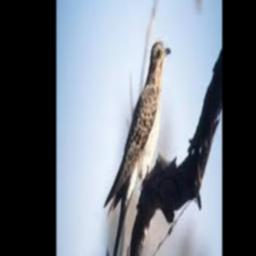Cuckoo: (104, 41, 170, 256)
